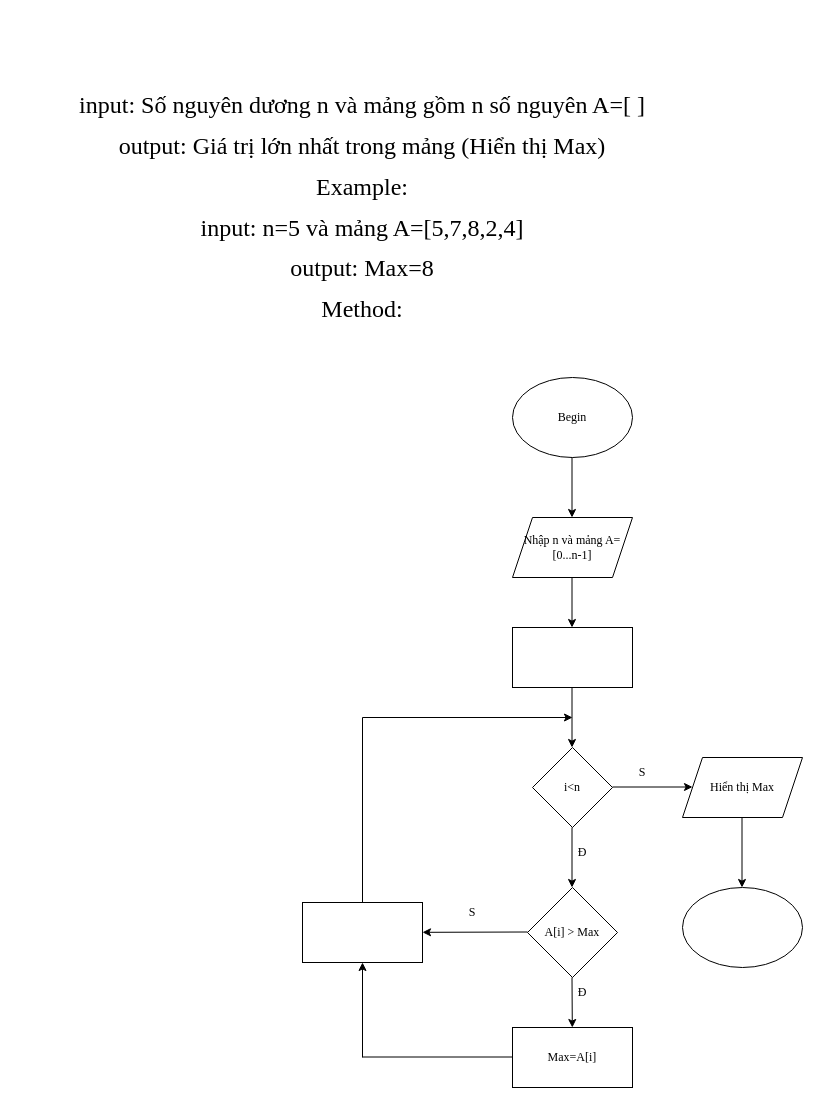
This 820x1105 diagram has some shape labels left out. Each missing label, with the centre of its shape:
"End" goes at (x=742, y=927).
"i = i + 1" goes at (x=362, y=932).
"Max=A[0] i=1" goes at (x=572, y=657).
